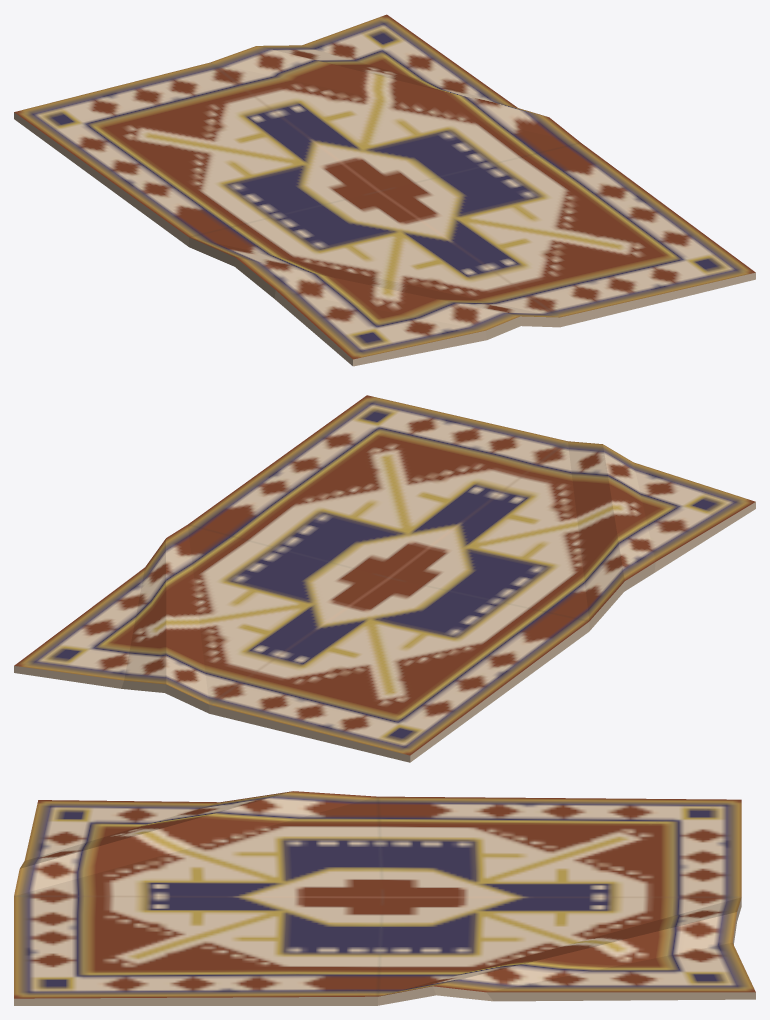
The model's file is SM_Prop_Rug_16.glb.
3 views of the same model, one above another, from view 1: azimuth 30°, elevation 25°; view 2: azimuth 150°, elevation 25°; view 3: azimuth 270°, elevation 25° (orthographic). The views are drawn at different scales.
Parts seen in each view (by area): view 1: SM_Prop_Rug_16; view 2: SM_Prop_Rug_16; view 3: SM_Prop_Rug_16.
Boxes of the visible parts, x1=… form: SM_Prop_Rug_16: x1=14, y1=14, x2=755, y2=366; SM_Prop_Rug_16: x1=14, y1=395, x2=755, y2=762; SM_Prop_Rug_16: x1=14, y1=791, x2=755, y2=1005.
Bounding box in the file's own units: 1.97 × 0.0908 × 3.1.
1 material, 1 textured.
